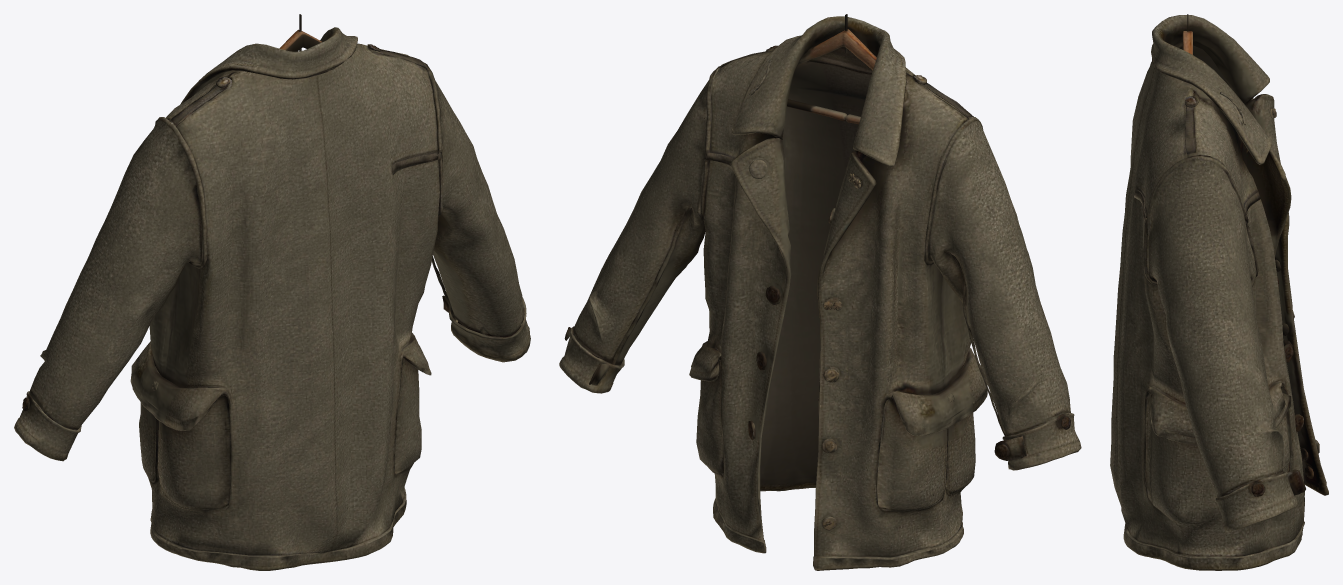
The model's file is prop-hanging-coat-v01.glb.
3 views of the same model, side by side, from view 1: azimuth 30°, elevation 25°; view 2: azimuth 150°, elevation 25°; view 3: azimuth 270°, elevation 25° (orthographic). The views are drawn at different scales.
Visible parts, largest first — view 1: tripo_node_65c3ee34-64b6-40a6-b481-48d273e208cb; view 2: tripo_node_65c3ee34-64b6-40a6-b481-48d273e208cb; view 3: tripo_node_65c3ee34-64b6-40a6-b481-48d273e208cb.
Boxes of the visible parts, x1,y1,x2,y2 form: tripo_node_65c3ee34-64b6-40a6-b481-48d273e208cb: (14,14,530,570); tripo_node_65c3ee34-64b6-40a6-b481-48d273e208cb: (559,14,1081,570); tripo_node_65c3ee34-64b6-40a6-b481-48d273e208cb: (1110,14,1328,570).
Bounding box in the file's own units: 1.23 × 1.2 × 0.466.
1 material, 1 textured.
